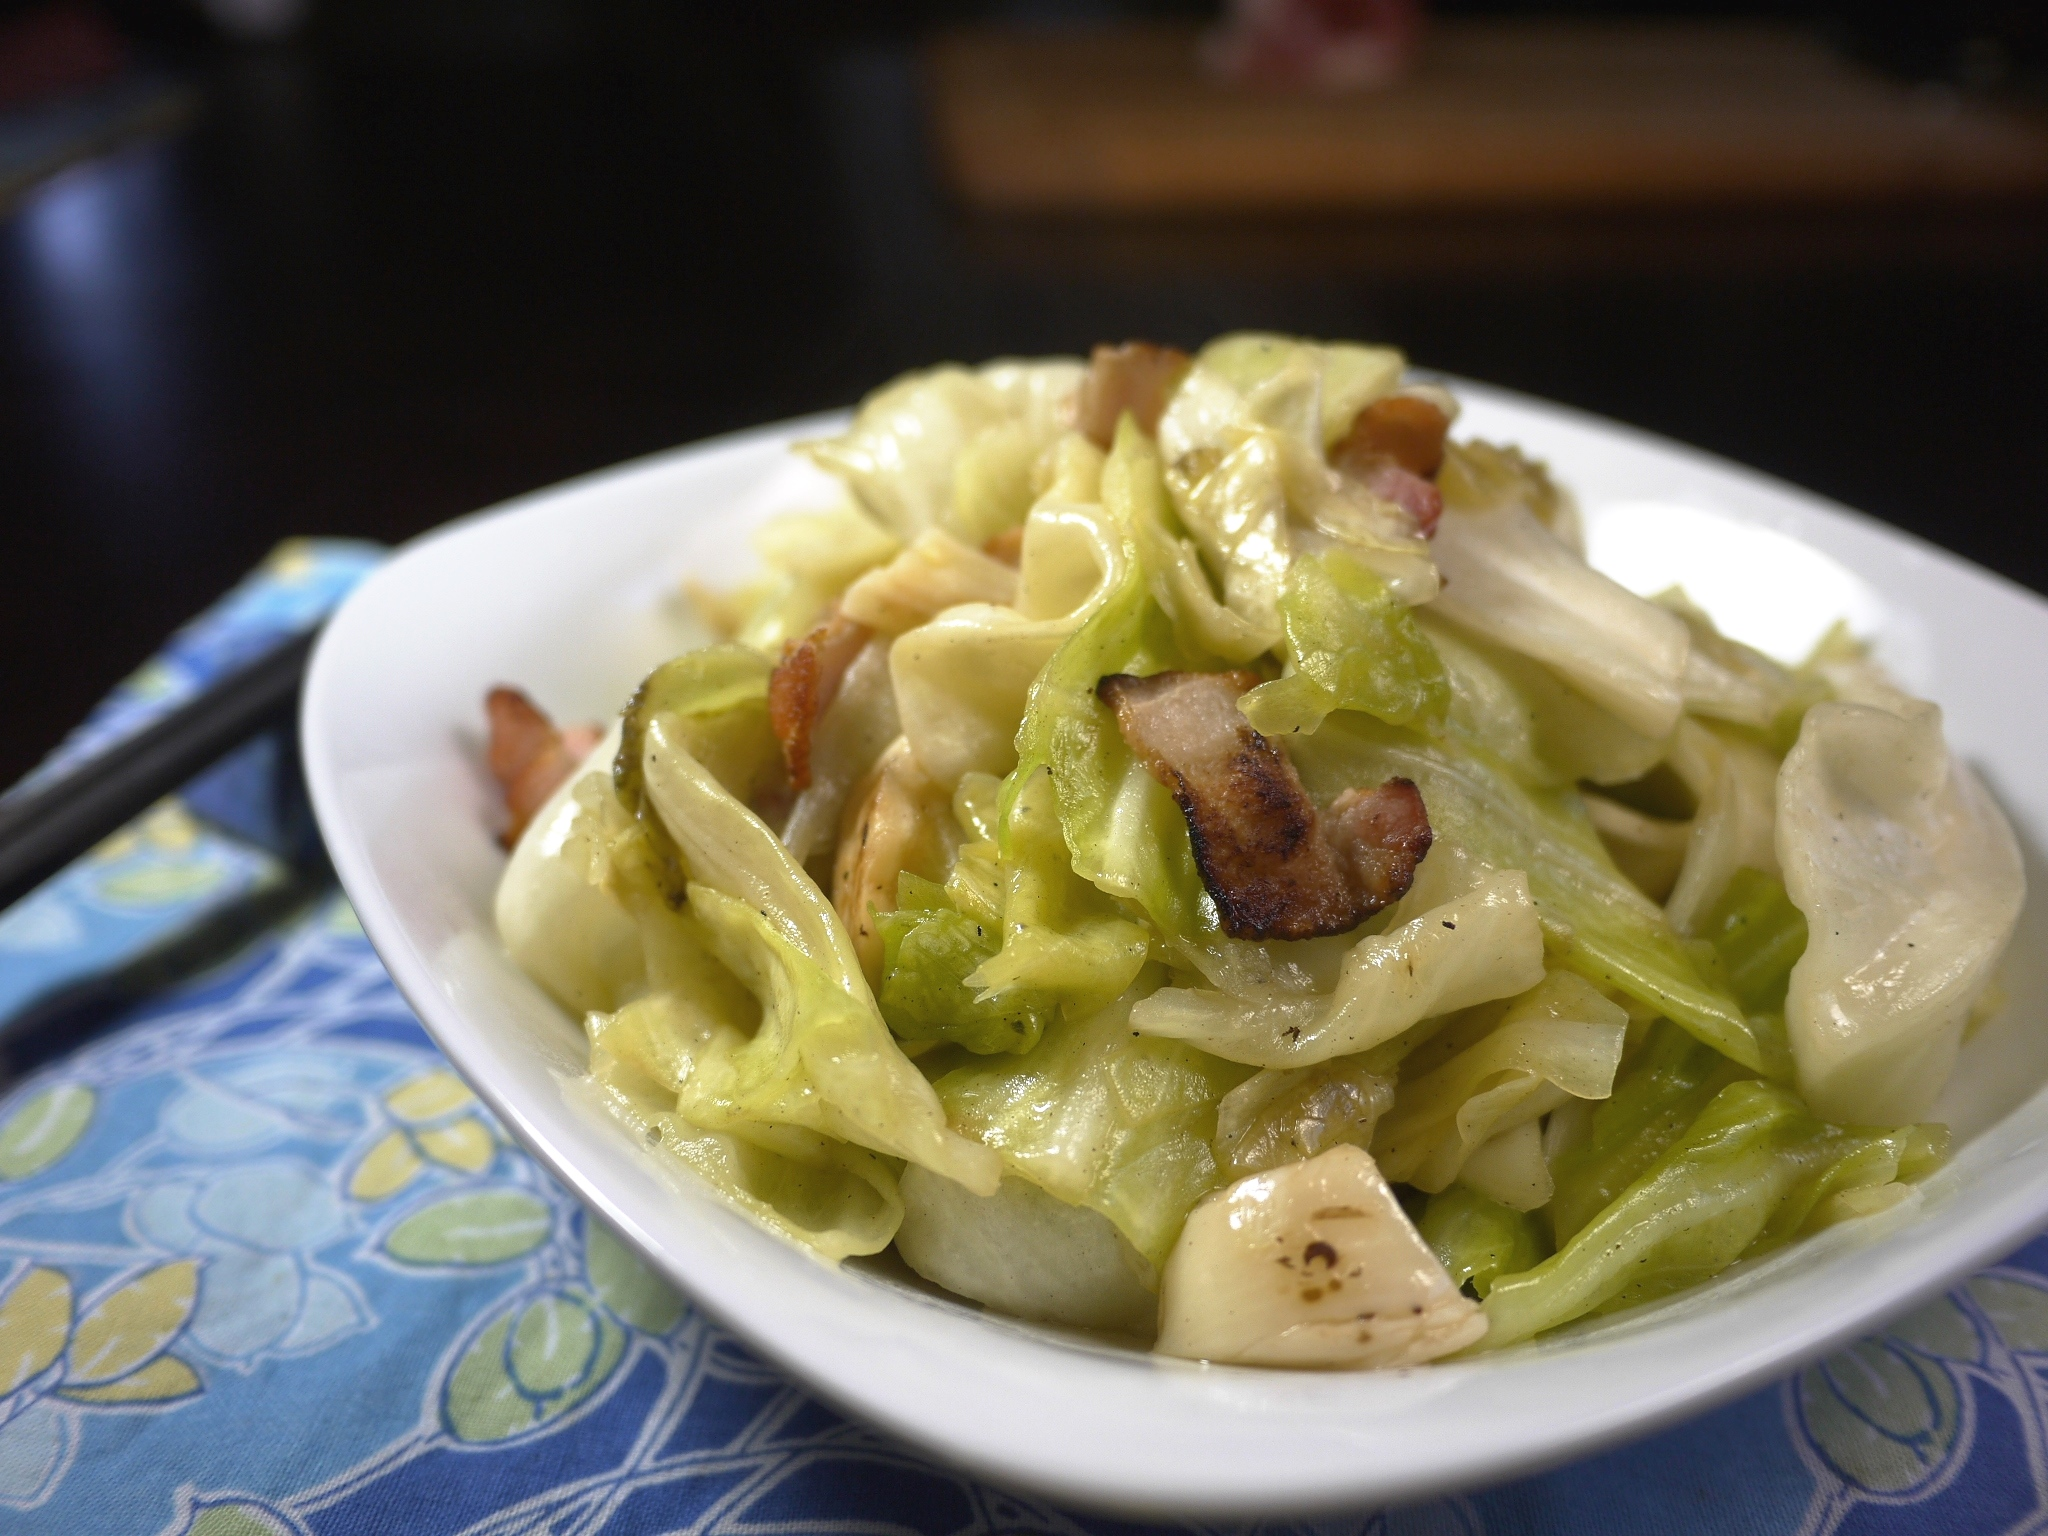chinese_cabbage: (682, 452, 1866, 1276), (671, 915, 1185, 1310), (1087, 952, 1563, 1346), (1471, 836, 1900, 1233), (955, 340, 1350, 662), (769, 440, 1101, 808), (1484, 613, 1908, 899), (1330, 471, 1692, 786), (532, 658, 863, 979)
